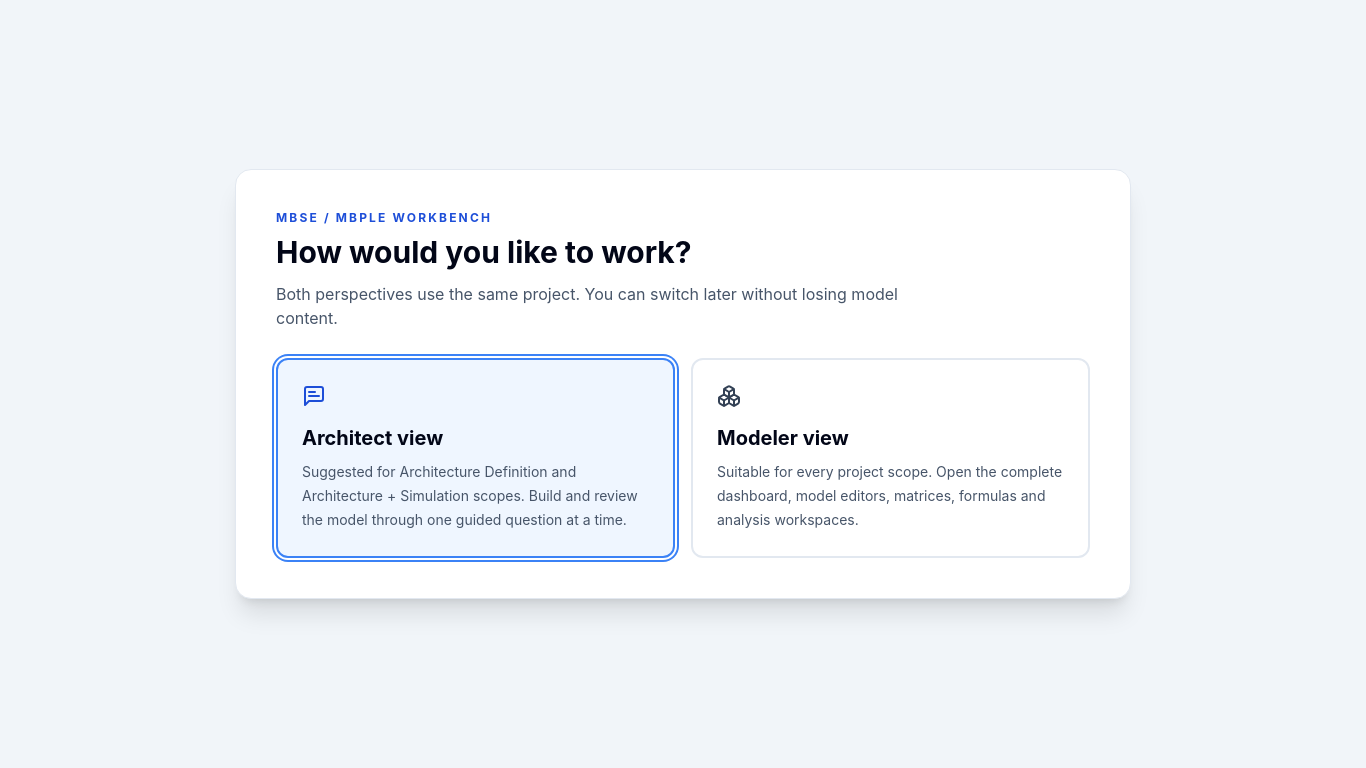
Test: Architect view › opens with an untimed perspective choice and keeps Skip untimed
Click the button "Architect view" at (373, 438), box top-left (276, 358), bottom-right (675, 558)
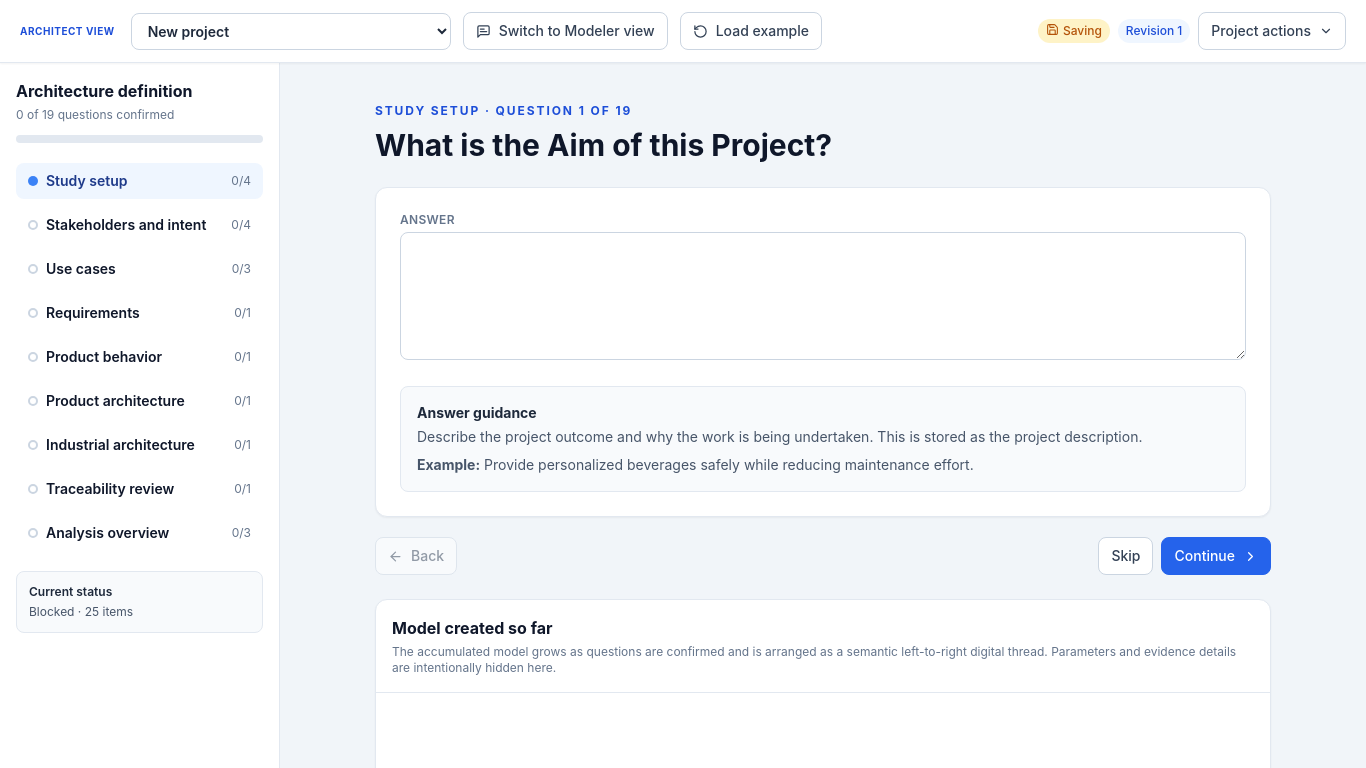
Expected: the heading "What is the Aim of this Project?" is shown, top-left (375, 127), bottom-right (832, 163)
Expected: the button "Skip" is shown
Click the button "Skip" at (1126, 556), box top-left (1098, 537), bottom-right (1154, 575)
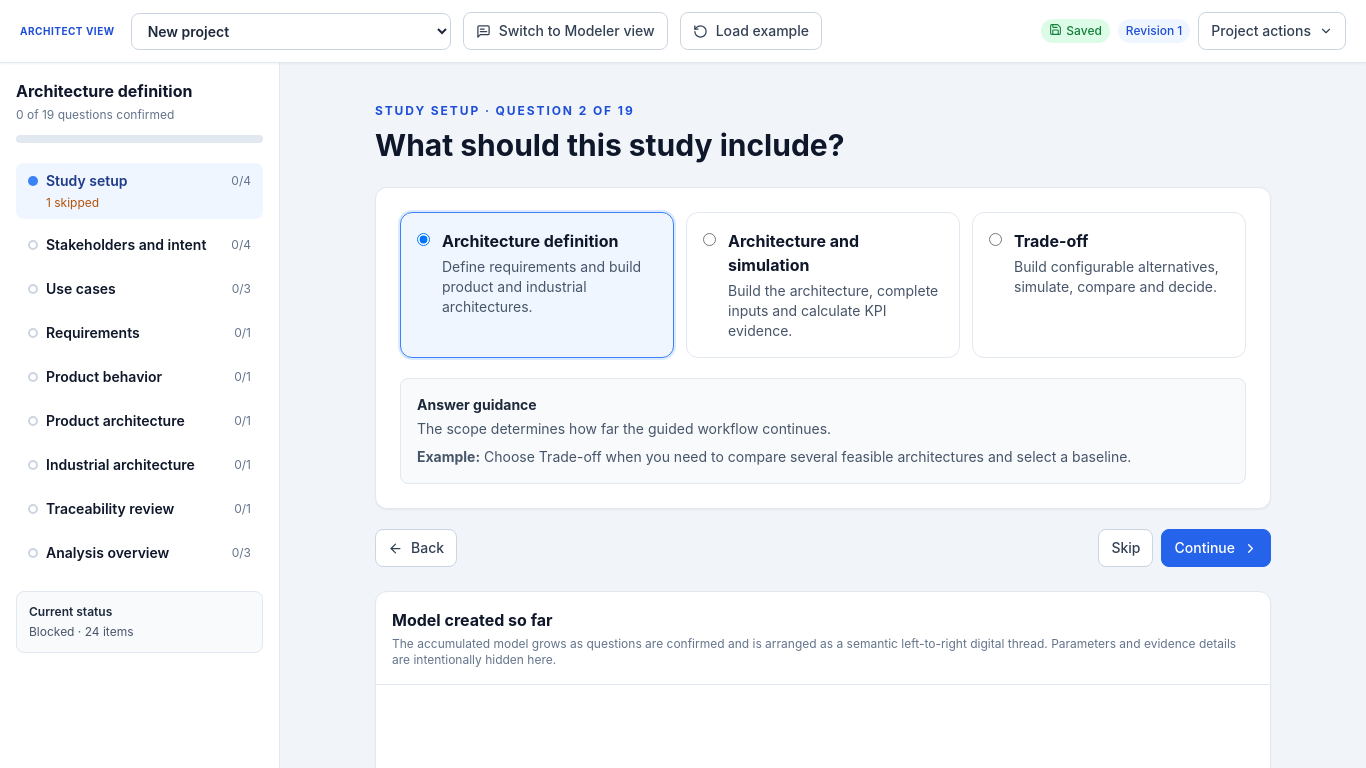
Expected: the heading "What should this study include?" is shown, top-left (375, 127), bottom-right (844, 163)
